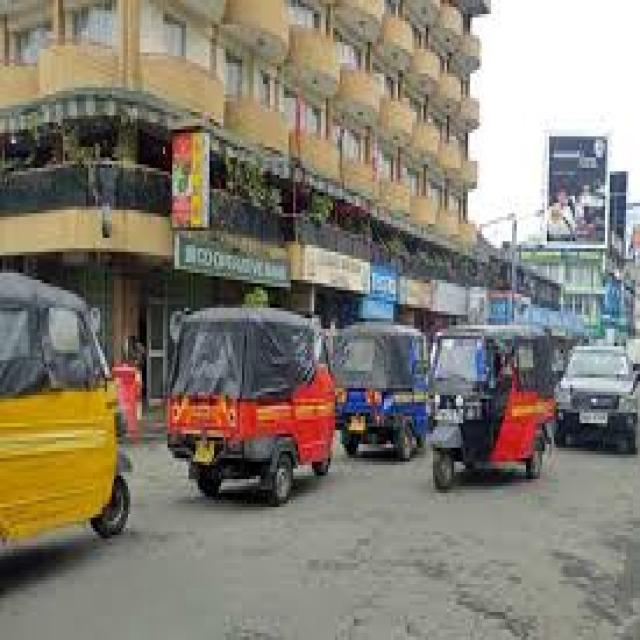tuktuk: (138, 246, 352, 523), (409, 302, 573, 526)
